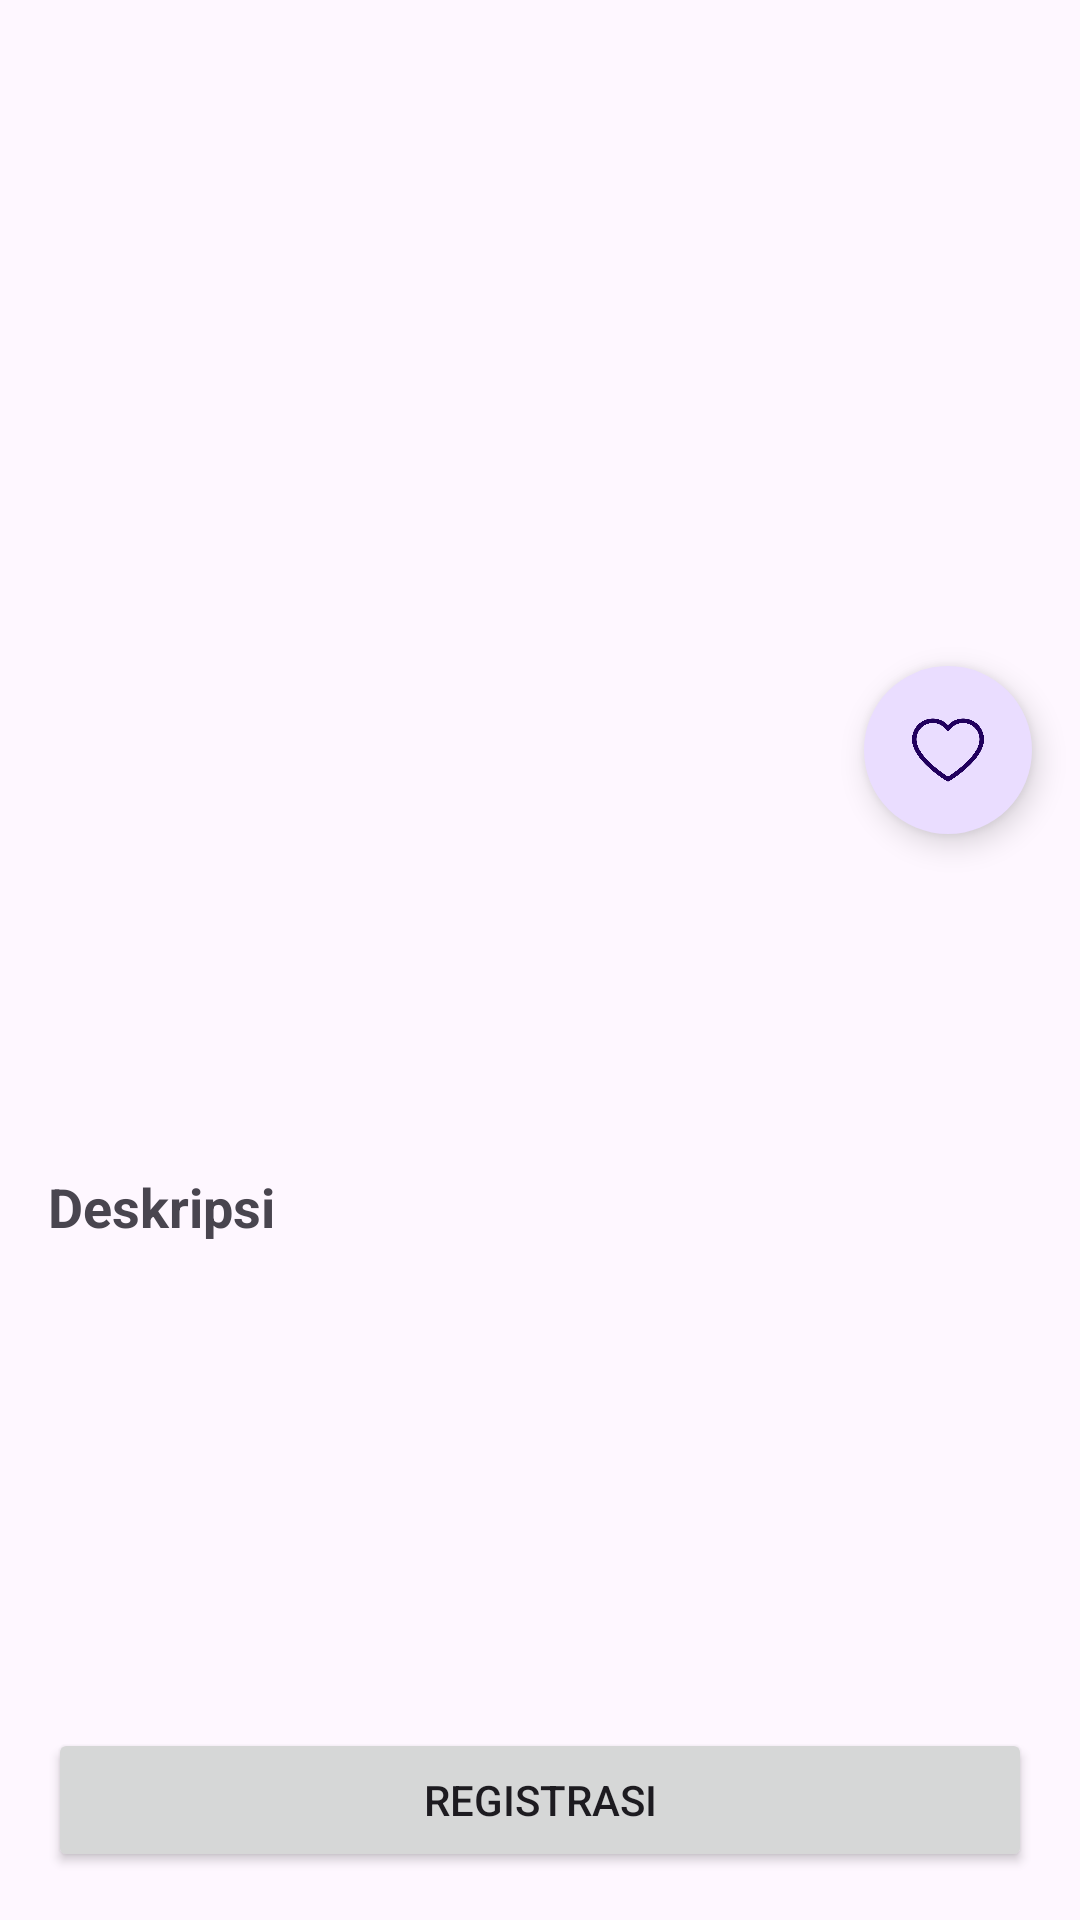

Locate icon controls on the screen. Image size 1080w x 1920h, boxes as {"left": x1, "top": y1, "right": x2, "bottom": y2}.
Favorite: {"left": 864, "top": 666, "right": 1032, "bottom": 834}
